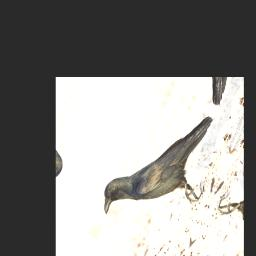Crow: (95, 90, 232, 244)
